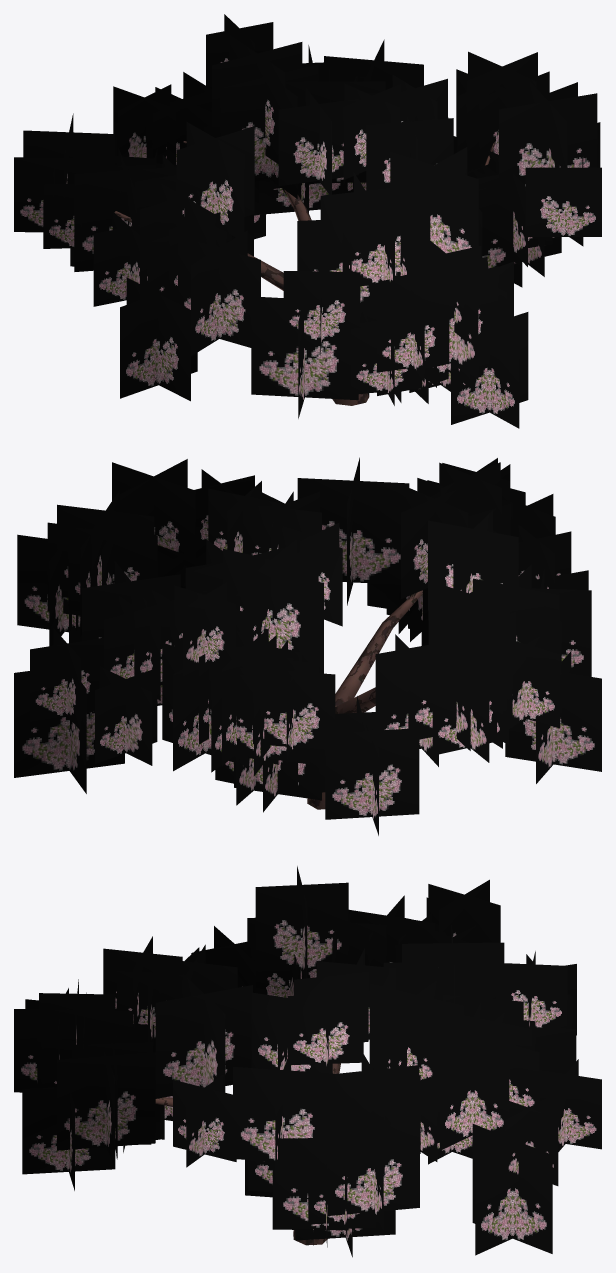
Rendered from cherry0_lod0.fbx.
3 renders of one model, top to bottom at view 1: azimuth 30°, elevation 25°; view 2: azimuth 150°, elevation 25°; view 3: azimuth 270°, elevation 25°, orthographic. The views are drawn at different scales.
Parts seen in each view (by area): view 1: cherry0_lod0; view 2: cherry0_lod0; view 3: cherry0_lod0.
Boxes of the visible parts, <box> form: cherry0_lod0: <box>14,14,601,428</box>; cherry0_lod0: <box>14,457,601,835</box>; cherry0_lod0: <box>14,866,601,1257</box>.
Size of the model in its own units: 12.55 by 6.96 by 12.87.
Materials: 2 (2 with a texture image).
